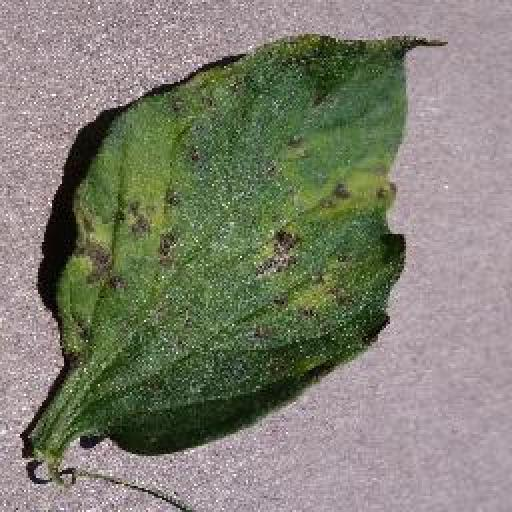Septoria: (49, 27, 447, 456)
